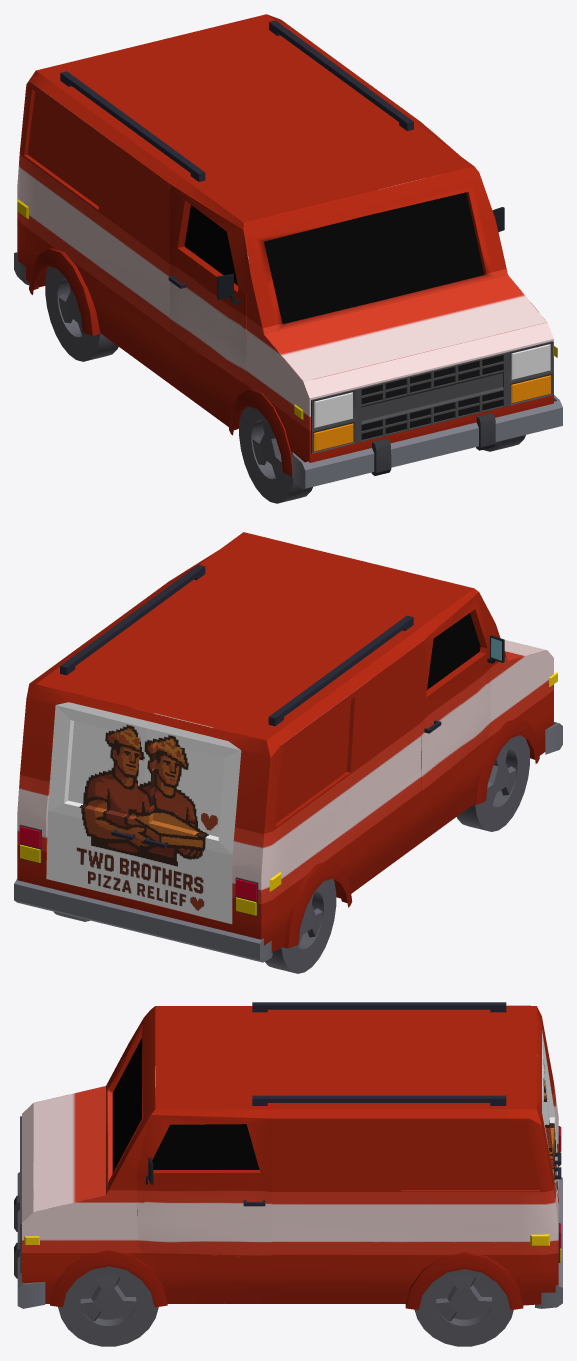
The model's file is GGjCarfbx.fbx.
The picture shows the model from 3 angles, top to bottom: view 1: azimuth 30°, elevation 25°; view 2: azimuth 150°, elevation 25°; view 3: azimuth 270°, elevation 25°; orthographic projection. The views are drawn at different scales.
Visible parts, largest first — view 1: CarFrame, DoorFrontRight, WheelFrontRight, WheelBackRight; view 2: CarFrame, BackDoorLeft, BackDoorRight, DoorFrontRight, WheelFrontRight, WheelBackRight; view 3: CarFrame, DoorFrontLeft, WheelFrontLeft, WheelBackLeft, BackDoorRight, BackDoorLeft.
Part boxes in pixels (bbox=[...]): CarFrame: bbox=[14, 14, 562, 489]; DoorFrontRight: bbox=[168, 184, 246, 383]; WheelFrontRight: bbox=[239, 406, 312, 503]; WheelBackRight: bbox=[45, 266, 118, 361]; CarFrame: bbox=[14, 532, 562, 962]; BackDoorLeft: bbox=[46, 702, 149, 900]; BackDoorRight: bbox=[140, 721, 241, 924]; DoorFrontRight: bbox=[421, 592, 504, 792]; WheelFrontRight: bbox=[457, 735, 529, 831]; WheelBackRight: bbox=[265, 878, 336, 973]; CarFrame: bbox=[14, 1002, 562, 1309]; DoorFrontLeft: bbox=[137, 1115, 271, 1256]; WheelFrontLeft: bbox=[58, 1266, 158, 1346]; WheelBackLeft: bbox=[414, 1269, 513, 1346]; BackDoorRight: bbox=[542, 1030, 561, 1199]; BackDoorLeft: bbox=[542, 1068, 561, 1184].
Size of the model in its own units: 275 by 244 by 498.
Materials: 18 (4 with a texture image).
